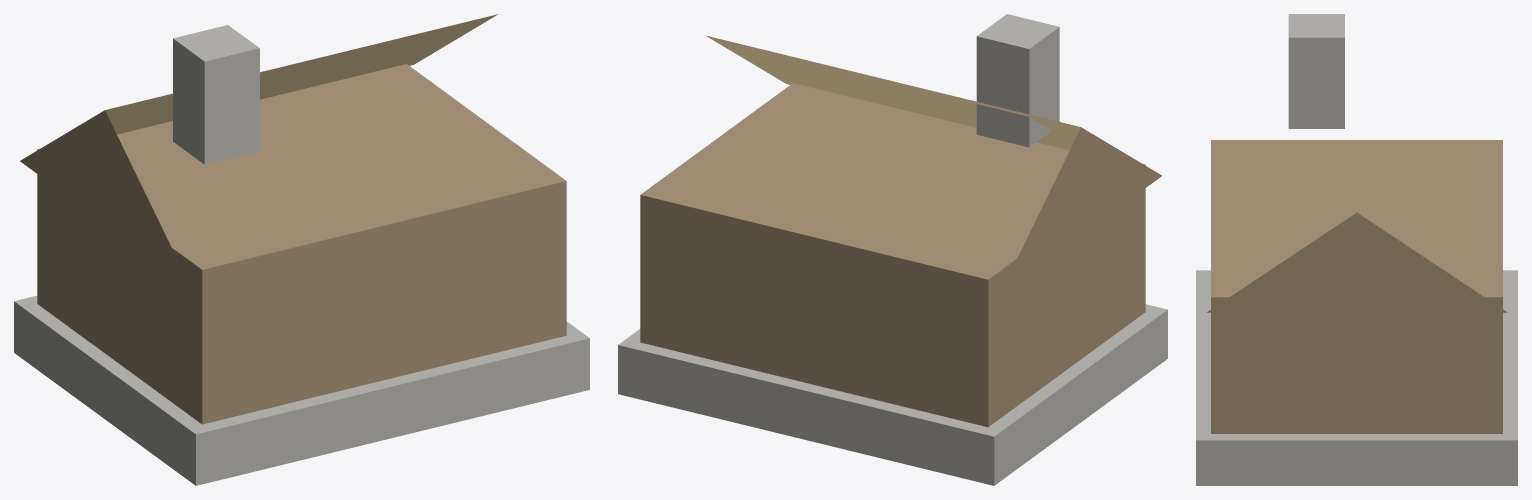
Rendered from settlement_house.glb.
3 renders of one model, left to right at view 1: azimuth 30°, elevation 25°; view 2: azimuth 150°, elevation 25°; view 3: azimuth 270°, elevation 25°, orthographic. The views are drawn at different scales.
Visible parts, largest first — view 1: lod0; view 2: lod0; view 3: lod0.
Part boxes in pixels (x1,y1,x2,y2): lod0: (14,14,589,485); lod0: (618,14,1167,485); lod0: (1196,14,1517,485).
Size of what is drawn, in the model's own units: 4.1 by 3.6 by 3.2.
